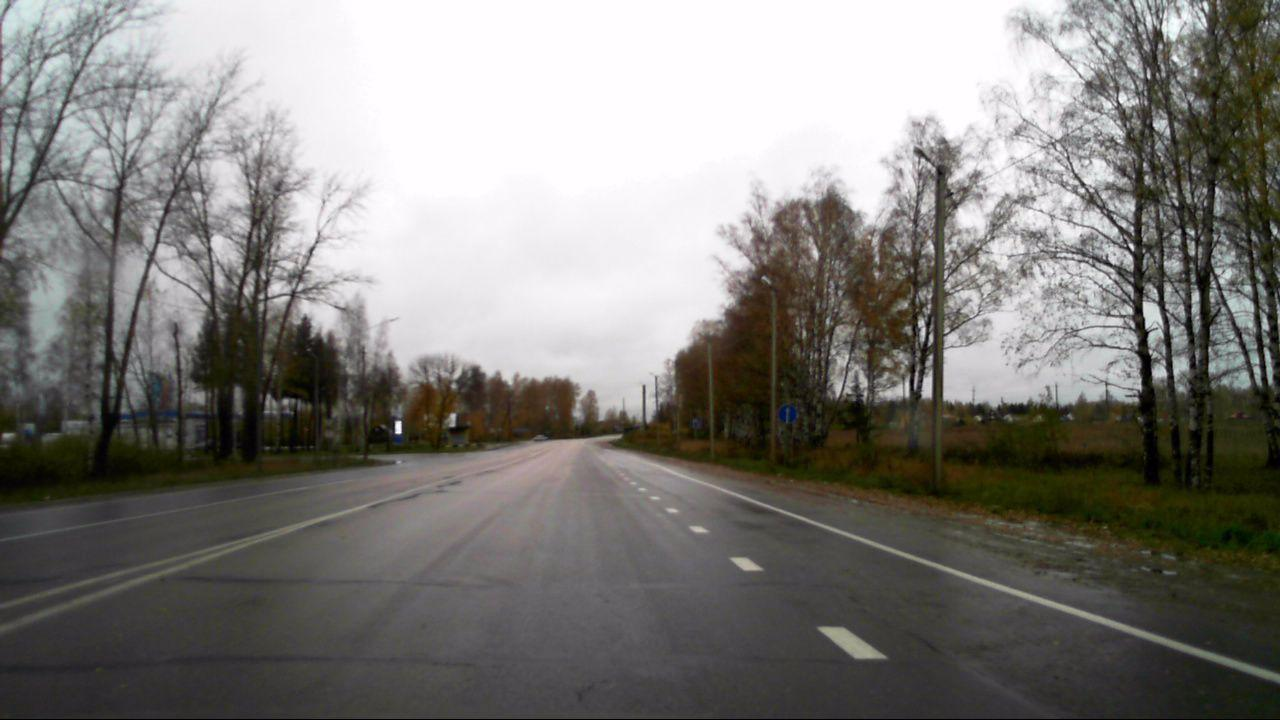road_sign: (777, 404, 799, 426)
